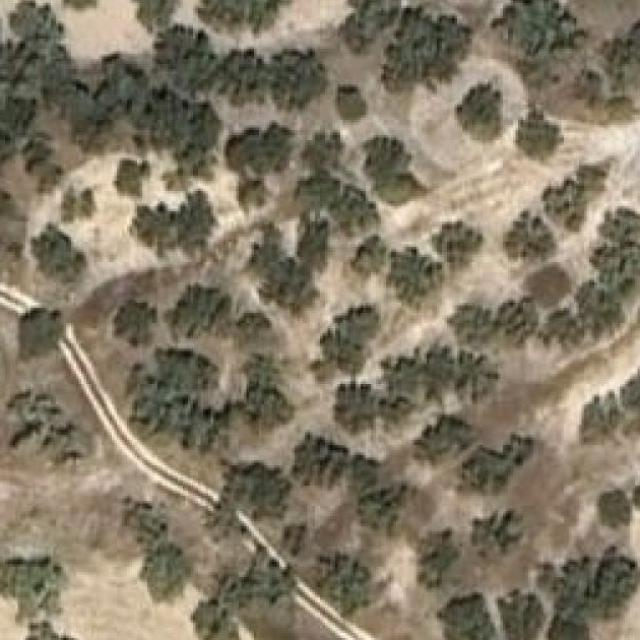Tree: (191, 544, 297, 640), (539, 546, 640, 640), (381, 6, 472, 93), (508, 0, 587, 79), (226, 123, 292, 207), (132, 191, 213, 255), (12, 396, 81, 455), (362, 137, 427, 196), (5, 554, 61, 622), (269, 49, 328, 110), (335, 306, 391, 370), (466, 438, 530, 494), (226, 463, 292, 517), (197, 0, 292, 37), (30, 224, 86, 286), (152, 27, 208, 88), (150, 349, 222, 396), (340, 0, 400, 54), (300, 434, 356, 490), (147, 538, 198, 598), (327, 554, 378, 610), (437, 592, 496, 640), (245, 374, 292, 434), (213, 49, 264, 104), (177, 282, 230, 334), (515, 100, 559, 160), (391, 250, 442, 301), (498, 587, 546, 640), (472, 509, 526, 555), (346, 386, 394, 435), (12, 1, 58, 52), (363, 481, 408, 532), (19, 307, 63, 358), (419, 528, 457, 587), (581, 396, 625, 445), (416, 418, 466, 461), (579, 283, 625, 328), (434, 222, 484, 262), (124, 496, 170, 539), (456, 84, 500, 128), (543, 179, 586, 224), (452, 303, 493, 348), (505, 218, 550, 257), (459, 352, 498, 397), (297, 217, 332, 266), (305, 128, 345, 169), (543, 313, 586, 351), (236, 311, 274, 354), (498, 306, 536, 346), (117, 303, 155, 343), (601, 204, 640, 240), (352, 237, 386, 277), (623, 362, 640, 436), (114, 161, 149, 196), (596, 491, 630, 526), (60, 186, 93, 221), (129, 0, 178, 23), (335, 87, 366, 123), (46, 0, 107, 16), (26, 622, 75, 640)
